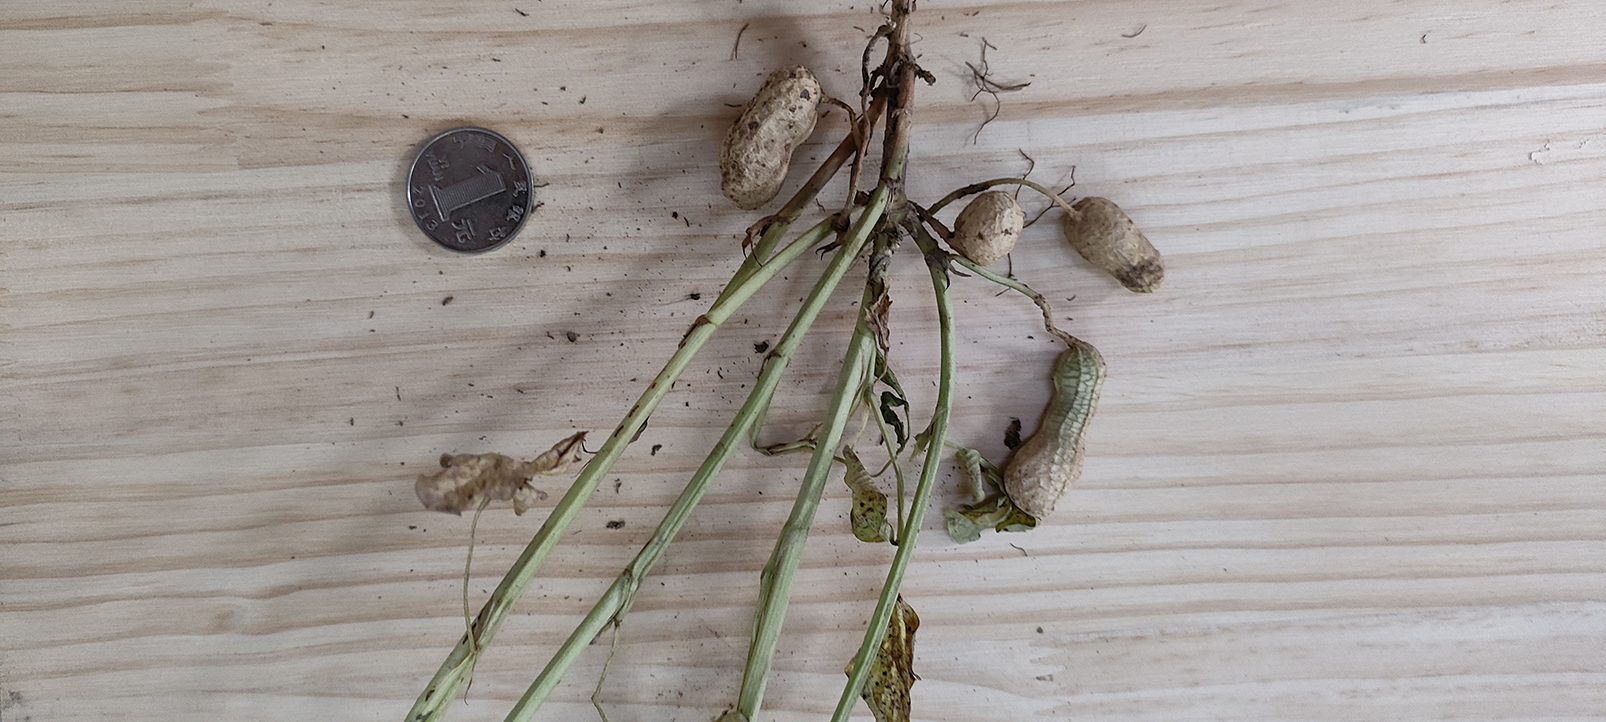h: (1000, 344, 1109, 521), (720, 65, 821, 209), (1064, 198, 1165, 295), (954, 192, 1024, 267)
